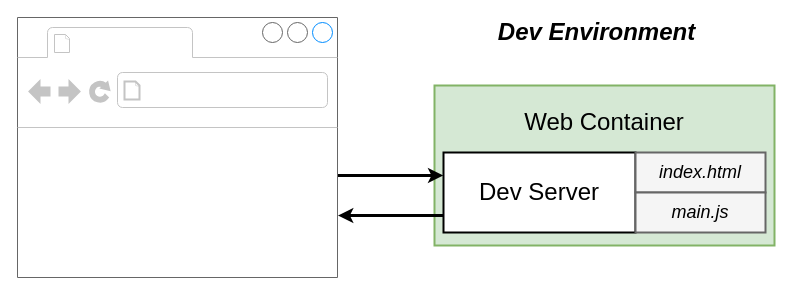
Image size: 793x295. Some labels were removed from this diagram. Each missing label, with the centre of its shape:
"https://www.draw.io" belongs at (272,90).
"Page 1" belongs at (132,42).
